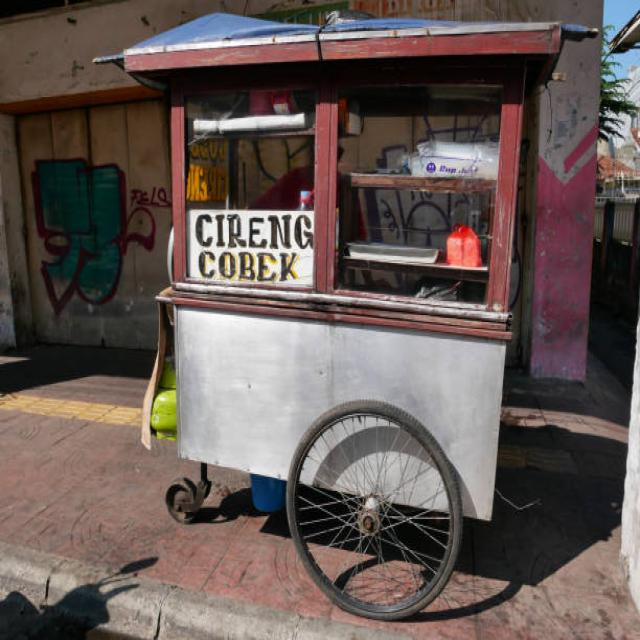Emperan: (96, 0, 576, 630)
